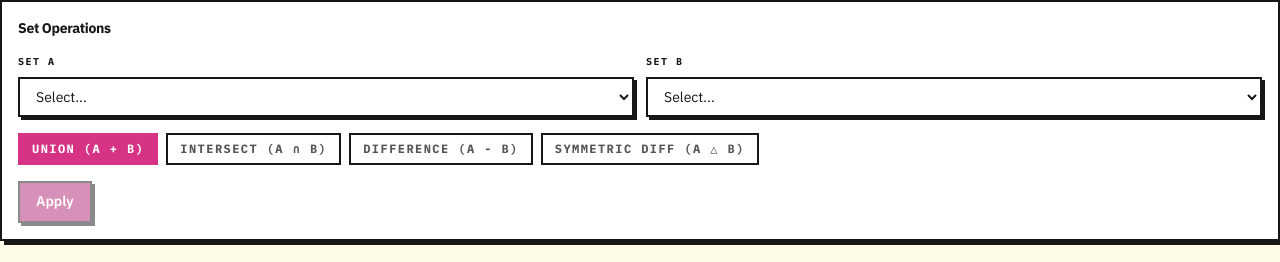
Test: SetOperationsPanel › computes intersection
Expected: the heading "Set Operations" is shown, [18, 19, 111, 37]
Select "Source A (3)" in the dropdown labelled "Set A" at {"x": 326, "y": 97}, box [18, 77, 634, 117]
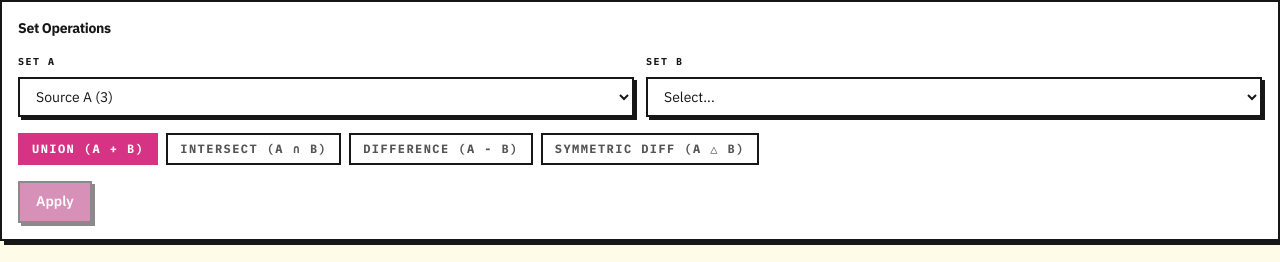
Select "Source B (2)" in the dropdown labelled "Set B" at {"x": 954, "y": 97}, box [646, 77, 1262, 117]
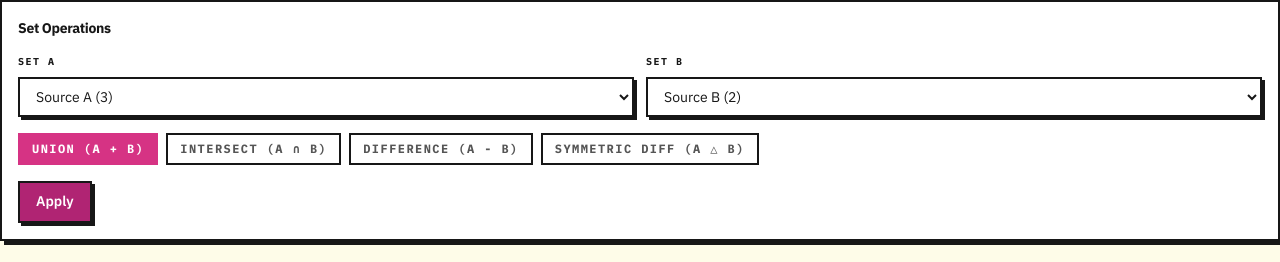
Click the button "Intersect (A ∩ B)".
click(254, 149)  # box [166, 133, 341, 165]
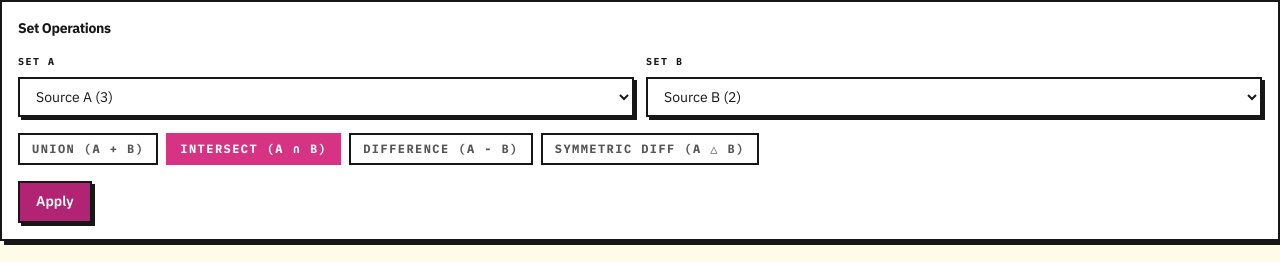
Click the button "Apply".
click(55, 202)  # box [18, 181, 92, 222]
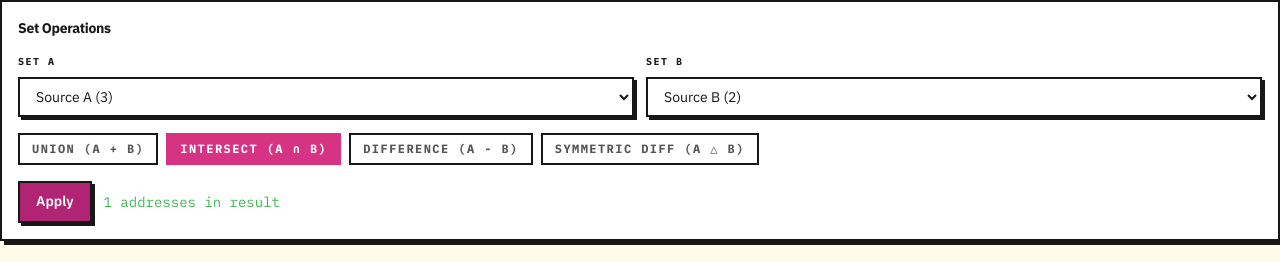
Now the text "1 addresses in result" is shown, box [104, 192, 280, 212]
